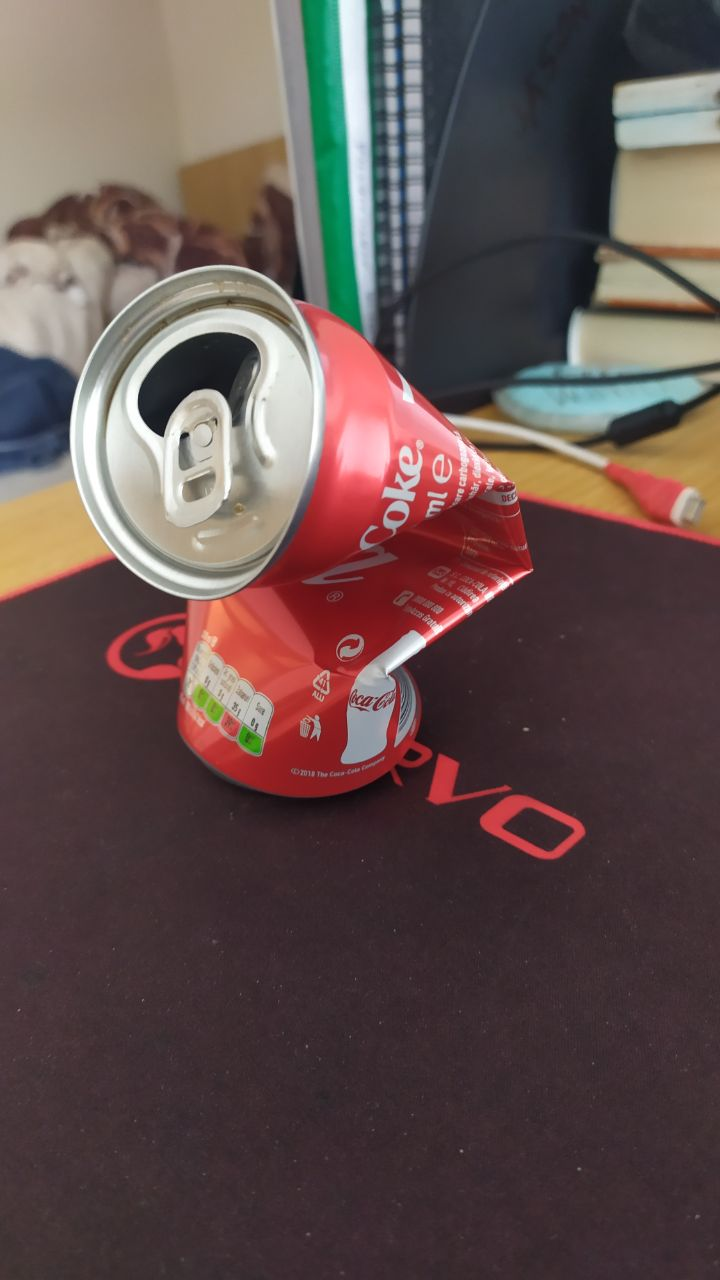Can: (64, 261, 541, 805)
